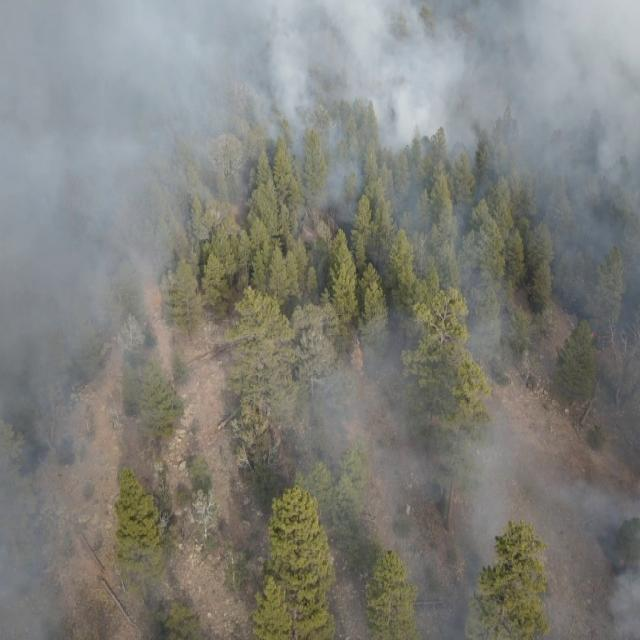smoke: (0, 0, 632, 212), (303, 370, 640, 640), (0, 215, 135, 640), (365, 214, 640, 370), (134, 215, 198, 470)
